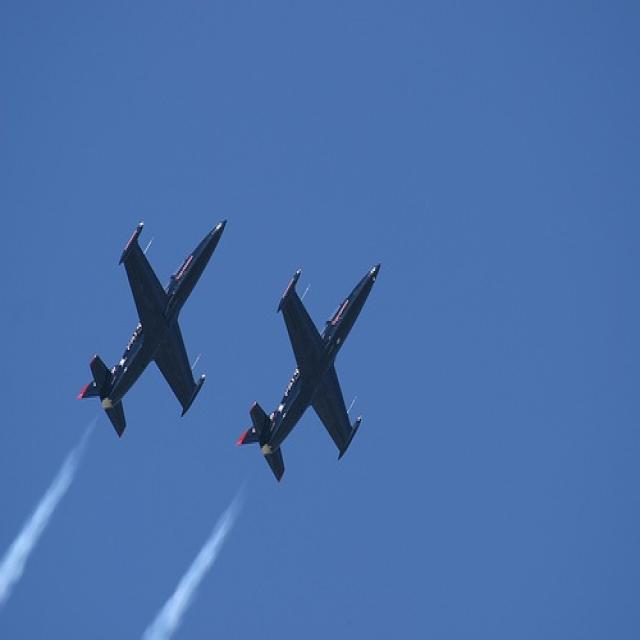aeroplane: (77, 217, 228, 440), (237, 258, 381, 484)
